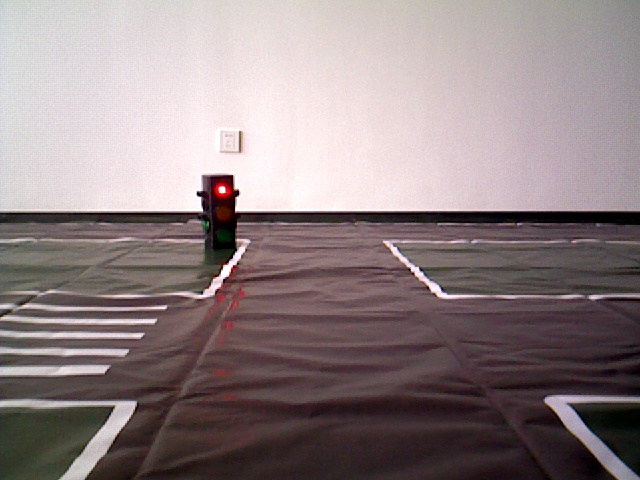red: (202, 180, 231, 253)
